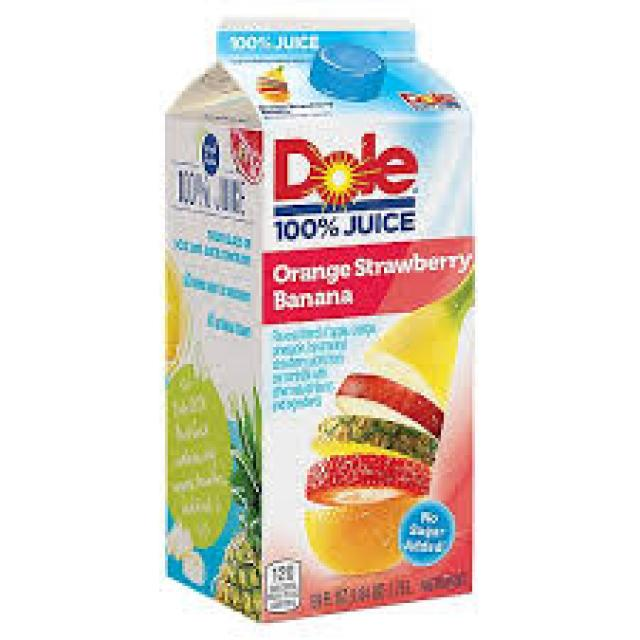non_white_jug: (142, 4, 504, 632)
